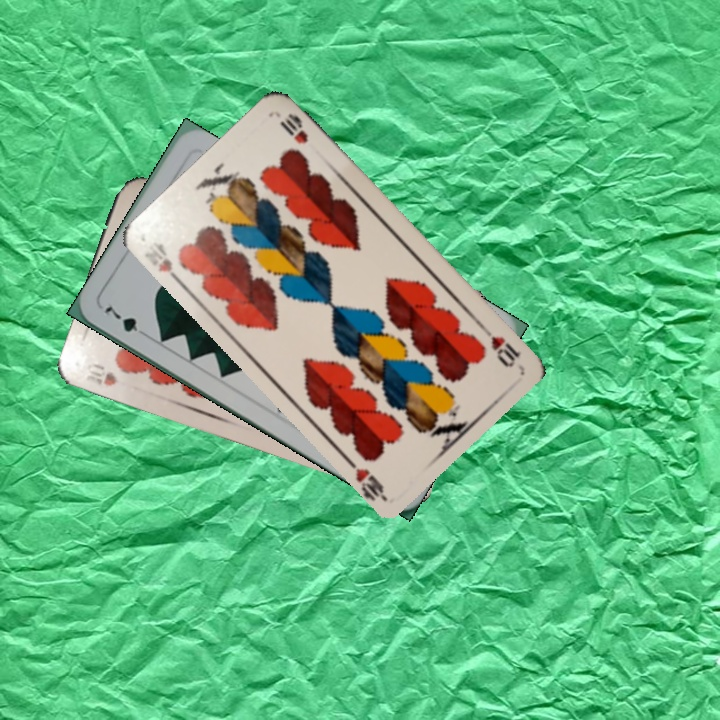G7: (100, 302, 152, 338)
H10: (140, 234, 185, 288), (476, 321, 523, 371), (81, 359, 120, 389)
